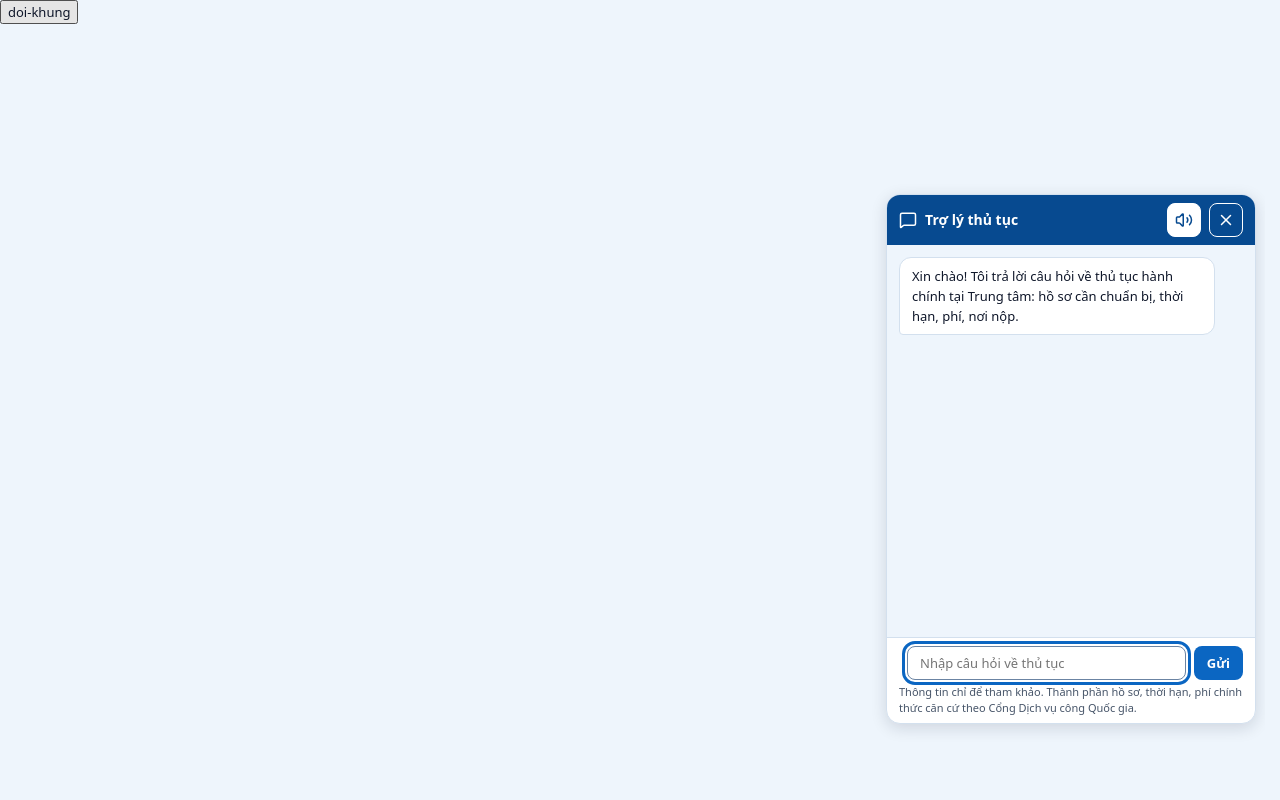
Test: nút đọc trong khung › tin lỗi không được đọc
The image size is (1280, 800).
Click the button named "Đọc câu trả lời": coordinates (1184, 220) left=1167, top=203, right=1201, bottom=237
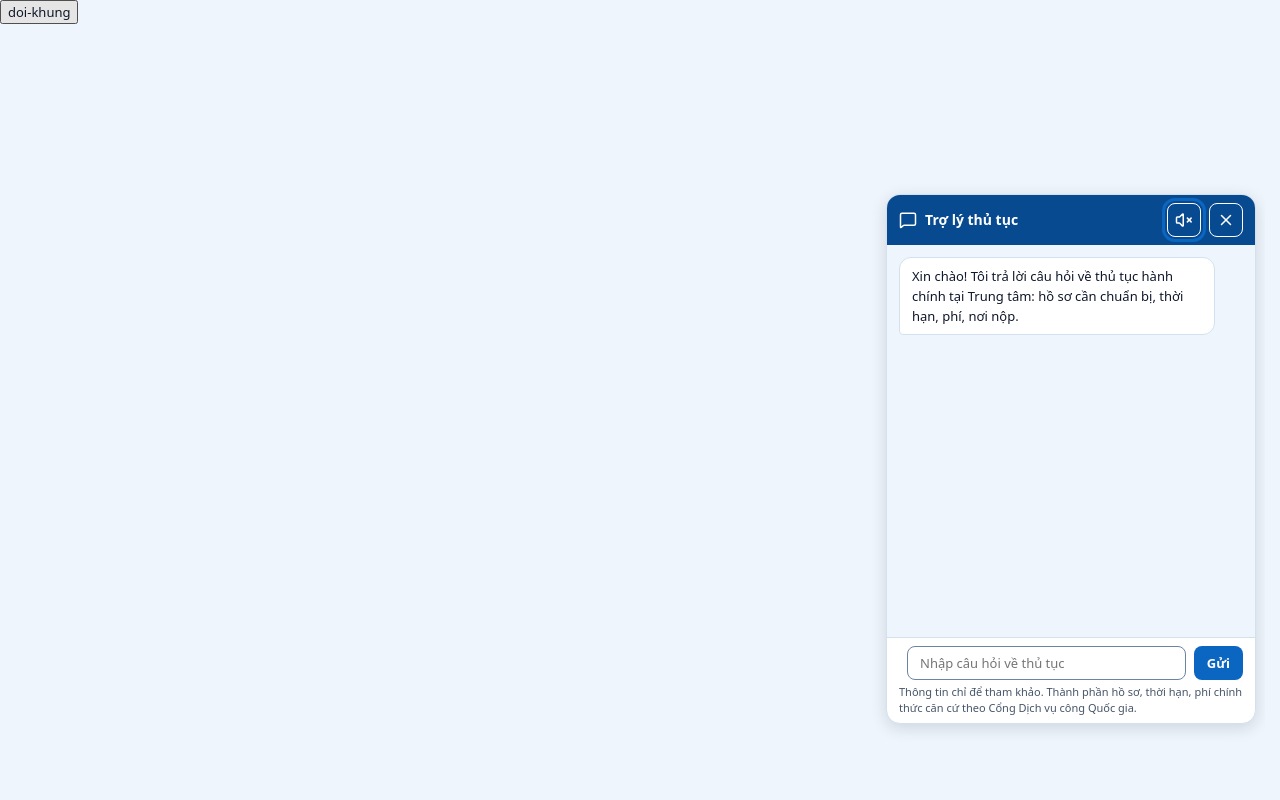
In the field labelled "câu hỏi": coordinates (1046, 663) left=907, top=646, right=1186, bottom=680, type "câu hỏi"
Then press Enter
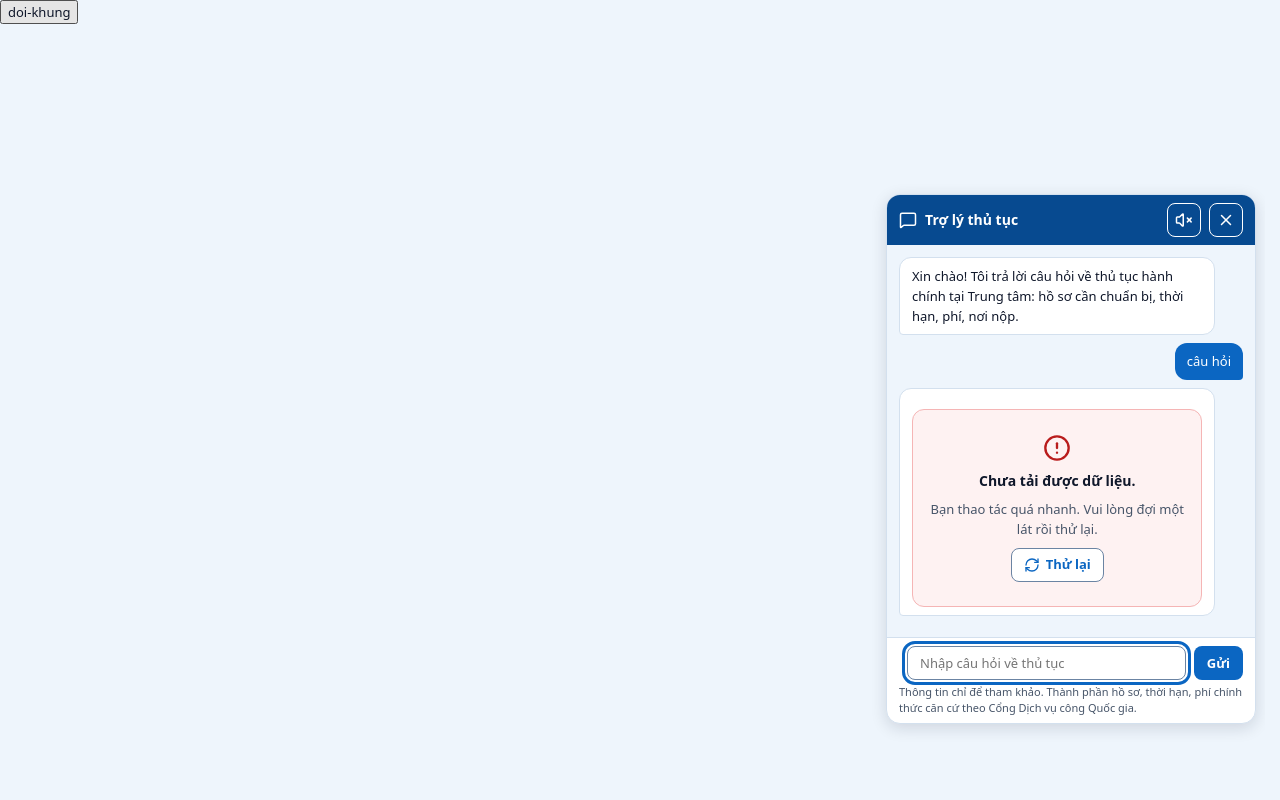
Check: the text "Bạn thao tác quá nhanh. Vui lòng đợi một lát rồi thử lại." is shown, box left=929, top=499, right=1186, bottom=540
